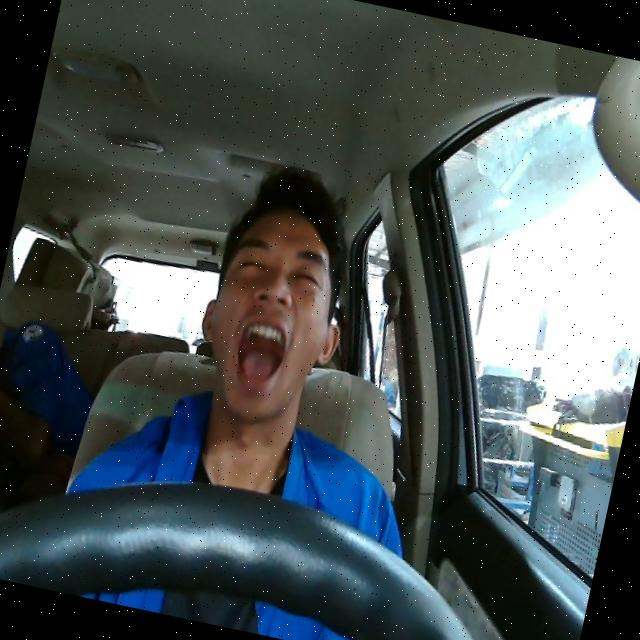yarning: (182, 194, 363, 434)
